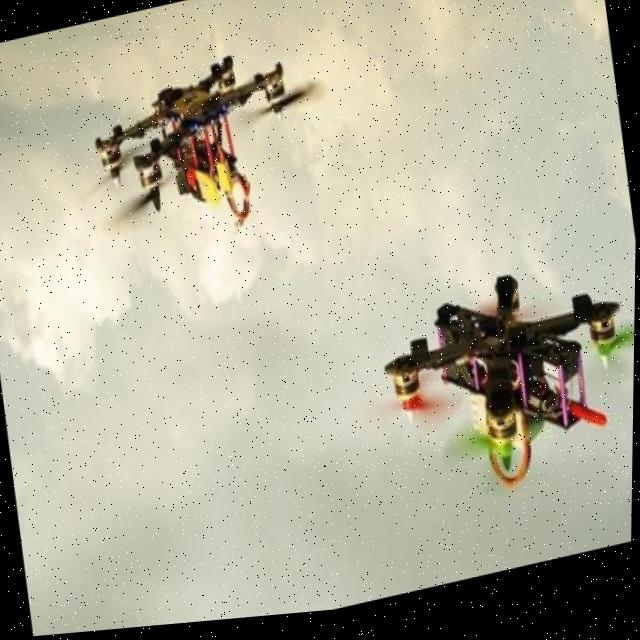drones: (308, 202, 637, 556), (50, 0, 360, 287)
